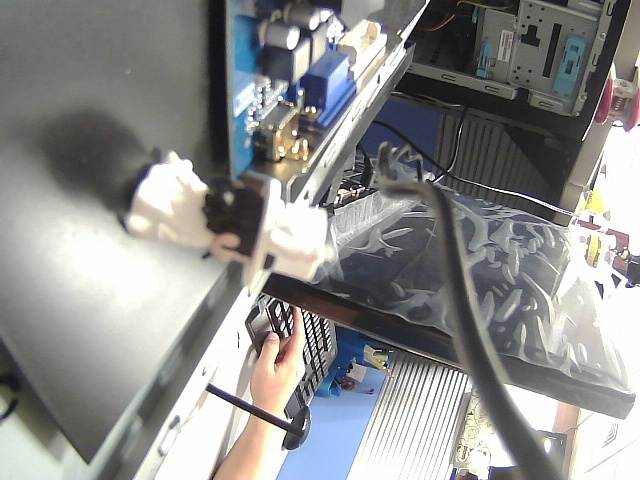lucci: (116, 138, 343, 294)
